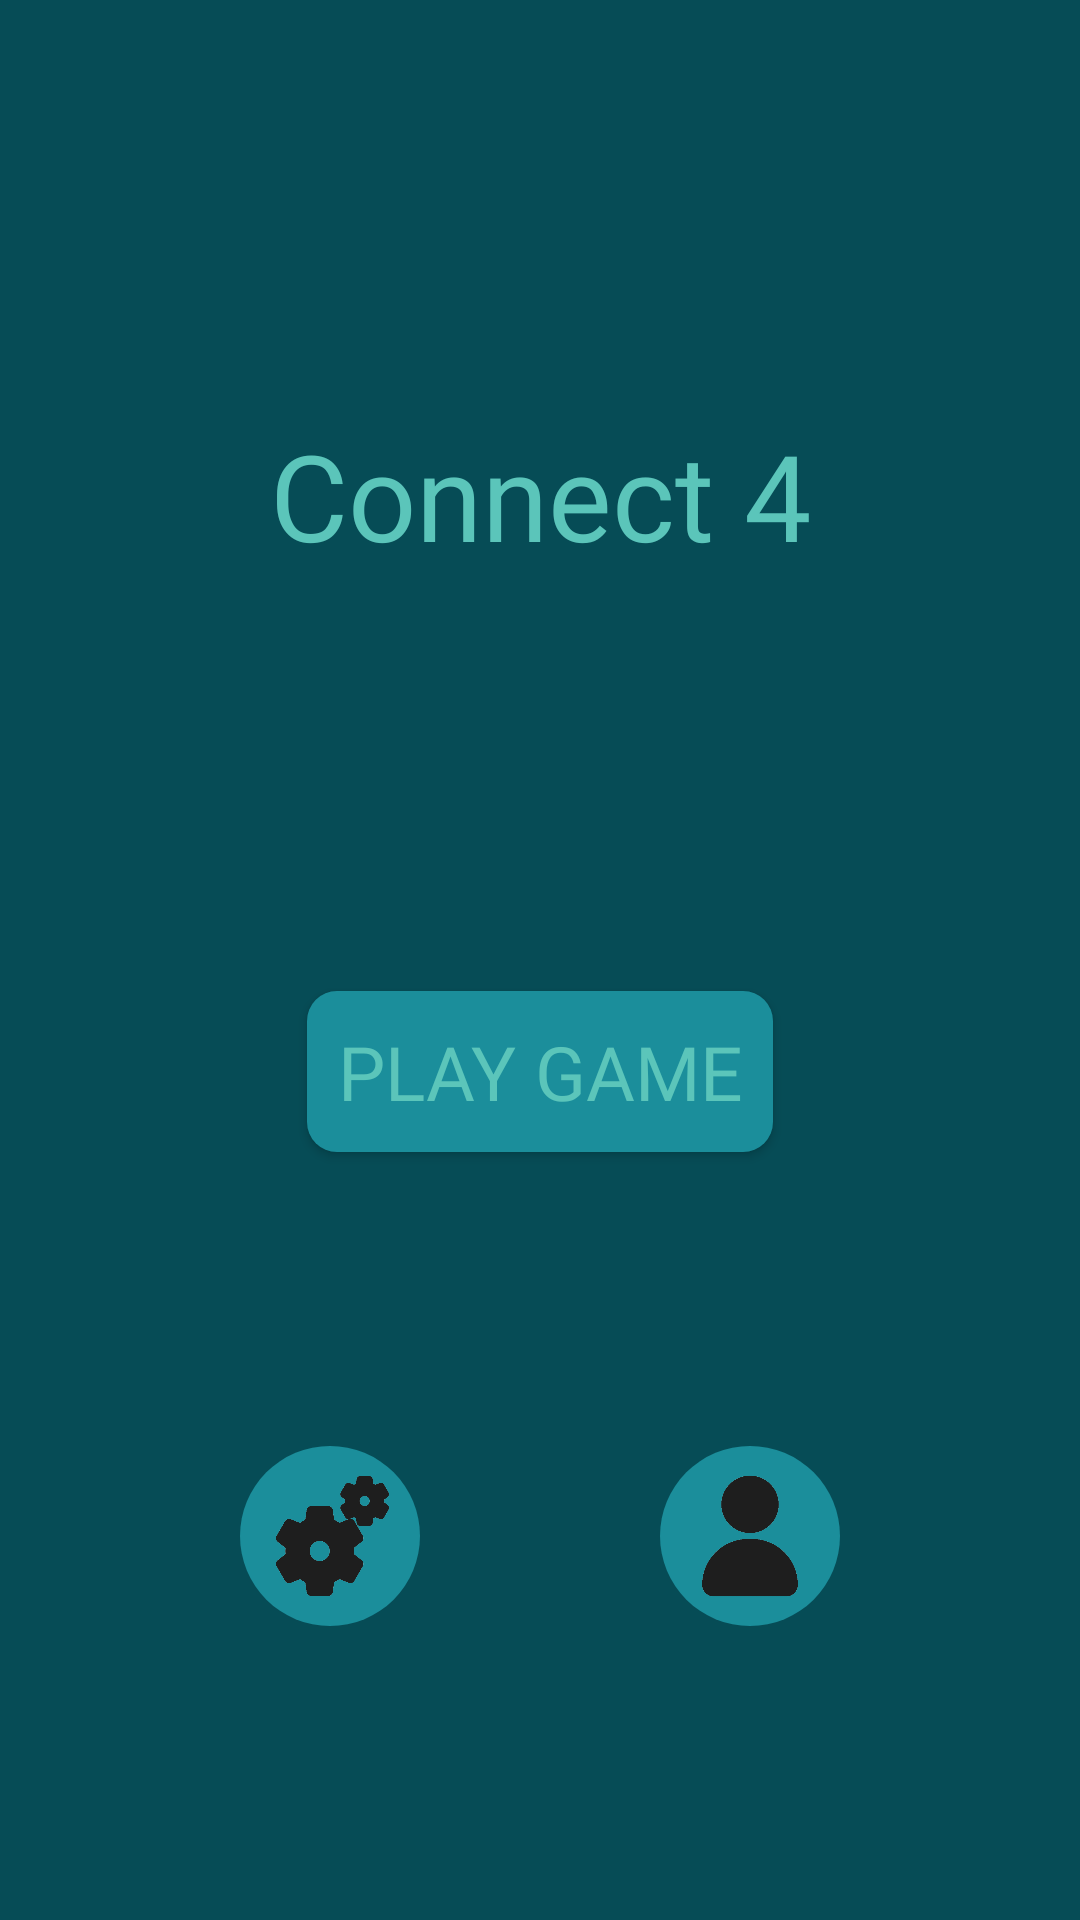

Screen size 1080px x 1920px. Icon name, then its box in pixels as bbox=[x1, y1, x2, y2]:
Profiles: bbox=[660, 1446, 840, 1626]
Settings: bbox=[240, 1446, 420, 1626]
